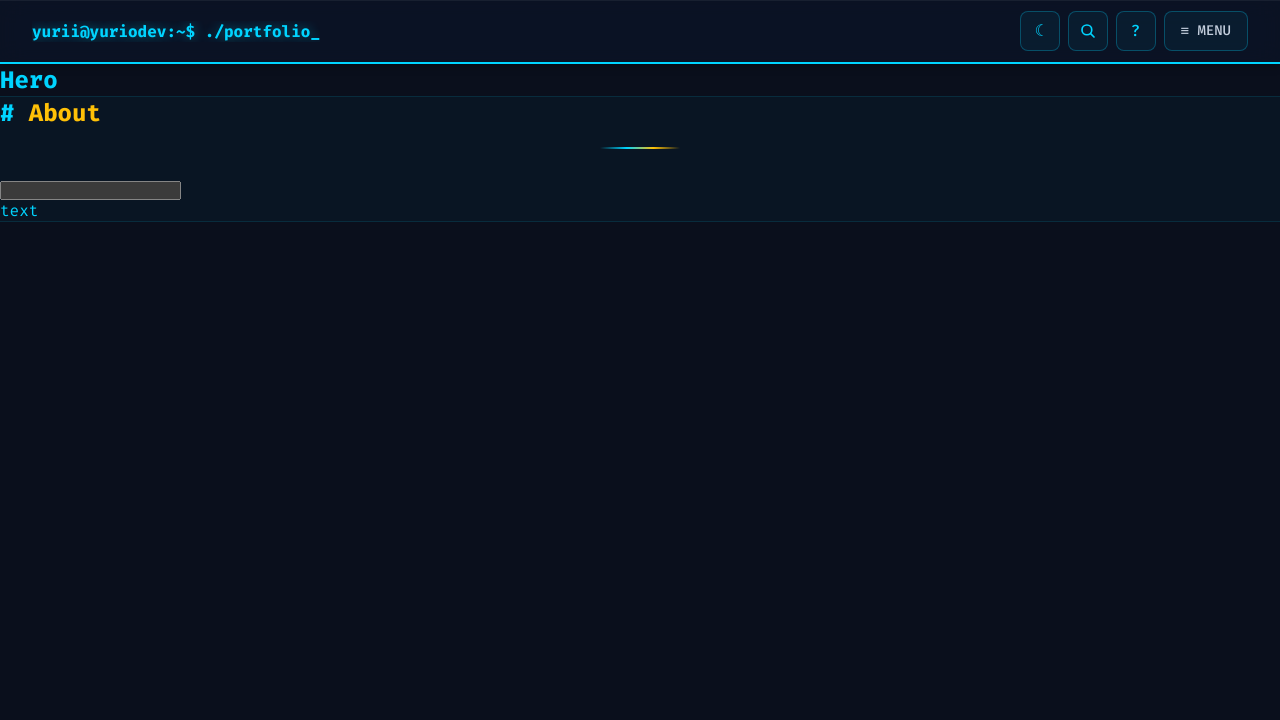
Test: PageLayout overlays › the header buttons open the palette and the help panel
The image size is (1280, 720).
Click the button named "Open command palette" at (1088, 31), box [1068,11,1108,51]
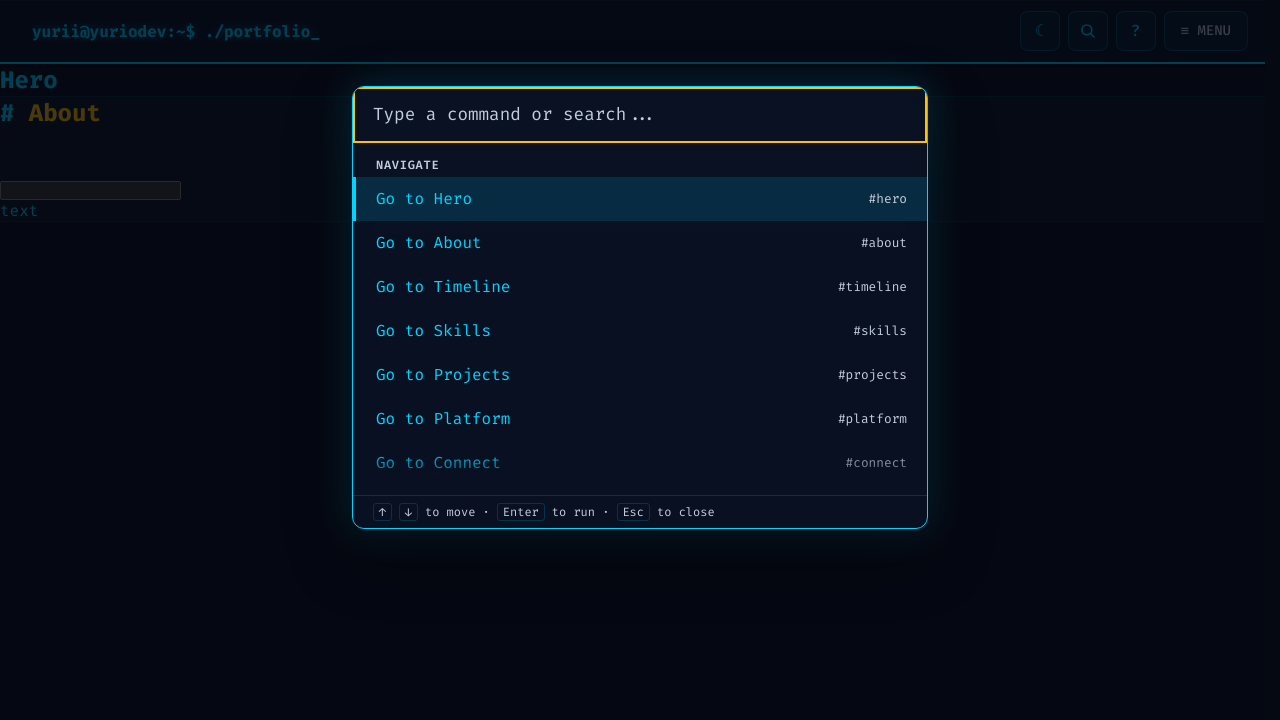
Press Escape
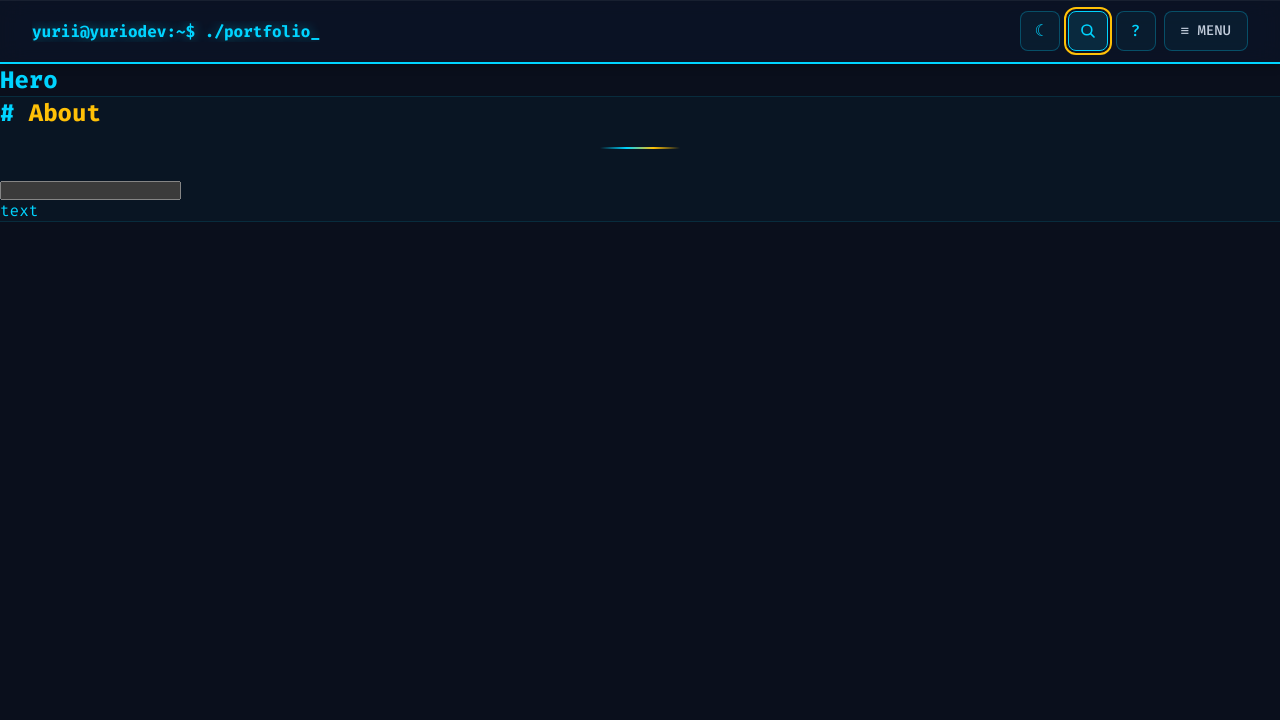
Click the button named "Show help panel" at (1136, 31), box [1116,11,1156,51]
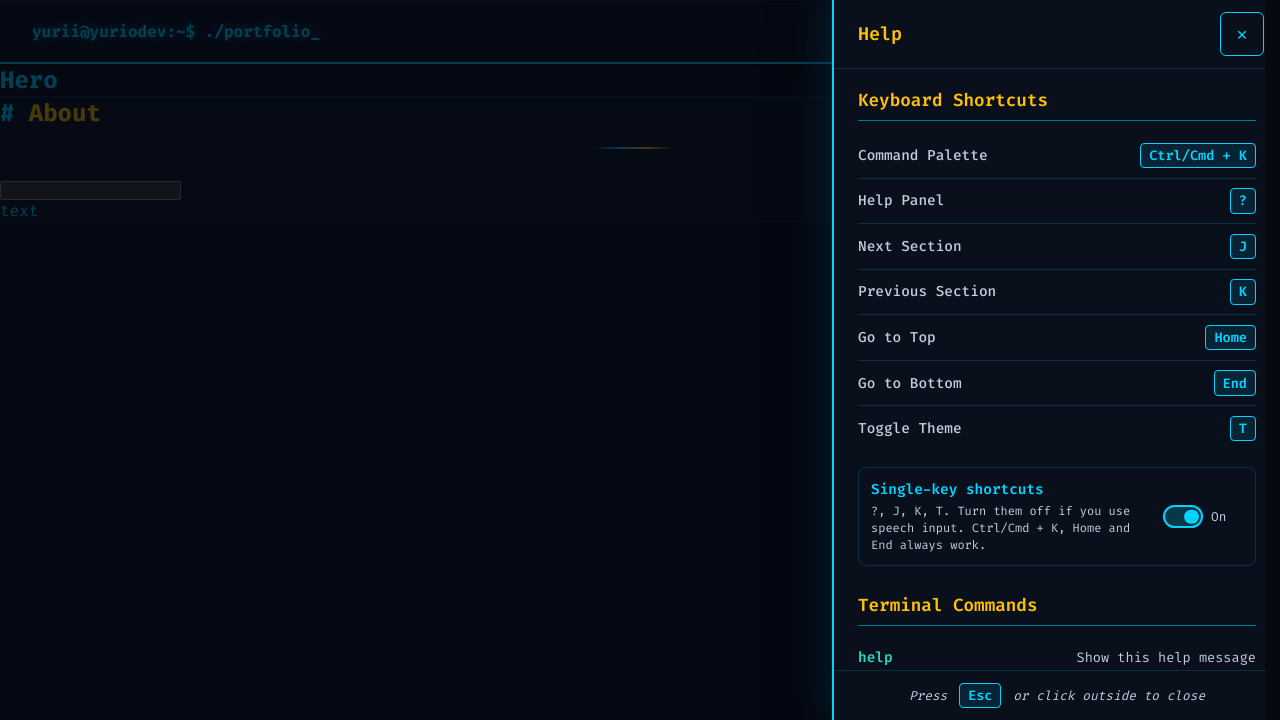
Check: the dialog "Help" is shown, box [832,0,1279,719]
